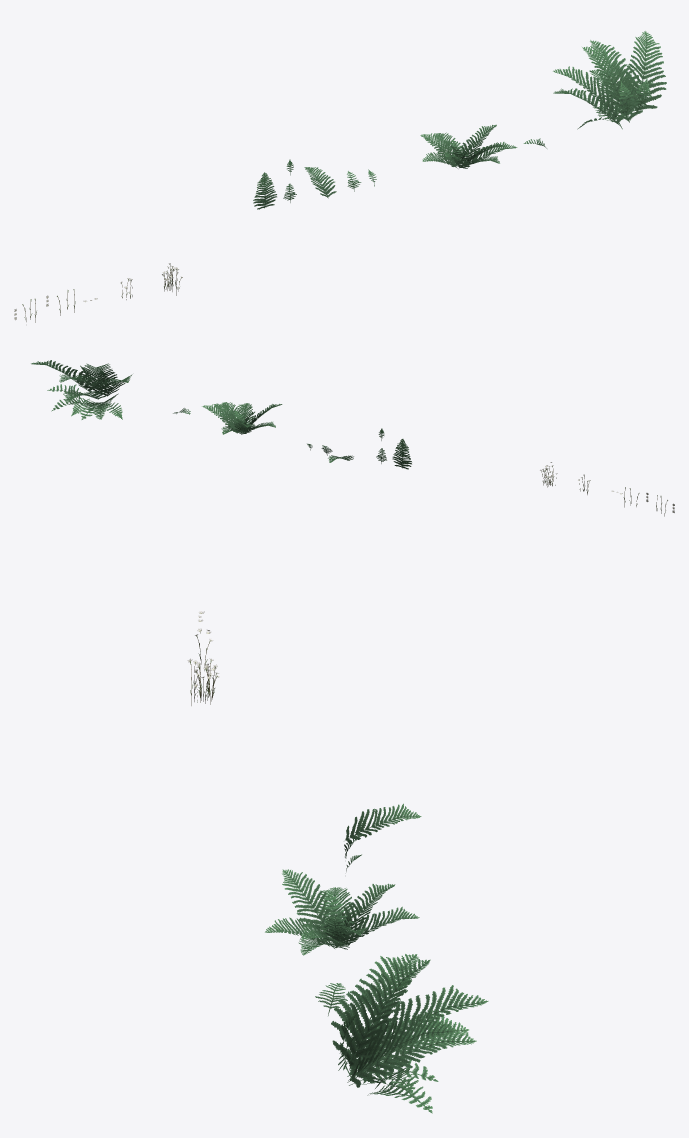
File: plants.glb
The picture shows the model from 3 angles, top to bottom: view 1: azimuth 30°, elevation 25°; view 2: azimuth 150°, elevation 25°; view 3: azimuth 270°, elevation 25°; orthographic projection. The views are drawn at different scales.
Parts seen in each view (by area): view 1: Object_7, Object_9; view 2: Object_7, Object_9; view 3: Object_7.
Part boxes in pixels (<box>): Object_7: <box>253,31,666,209</box>; Object_9: <box>14,263,182,322</box>; Object_7: <box>31,360,411,469</box>; Object_9: <box>540,462,674,516</box>; Object_7: <box>265,803,488,1113</box>.
Bounding box in the file's own units: 397 × 46.97 × 89.68.
Materials: 2 (2 with a texture image).
